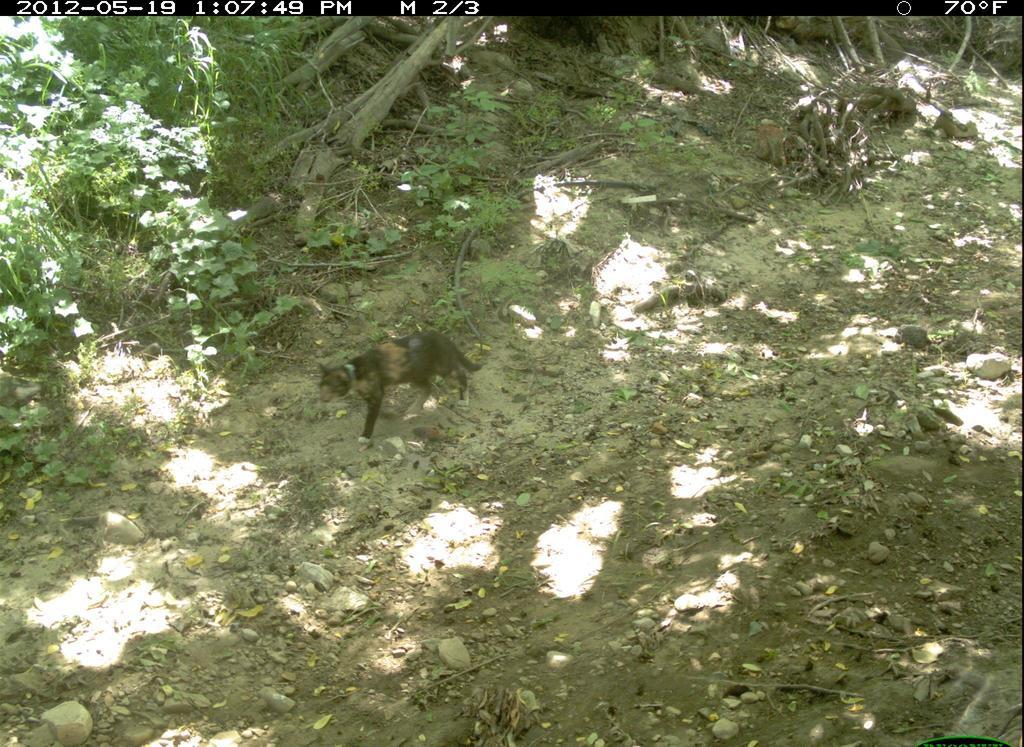cat: (310, 313, 497, 431)
